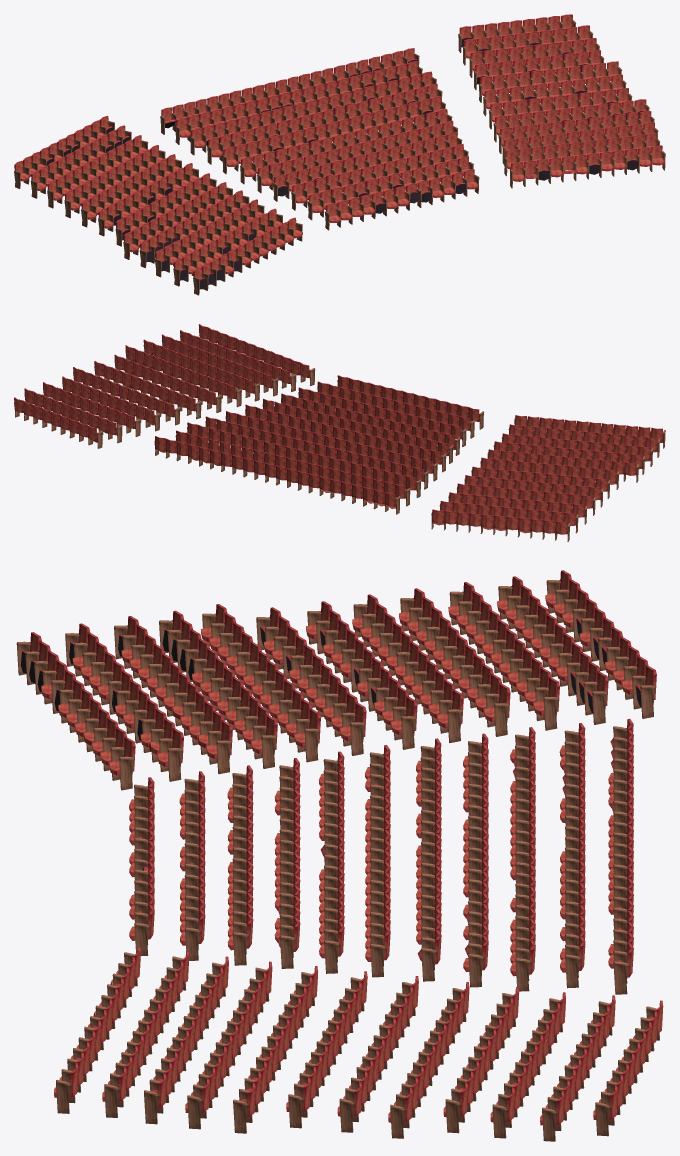
Rendered from TheatreSeats_OLD.glb.
The picture shows the model from 3 angles, top to bottom: view 1: azimuth 30°, elevation 25°; view 2: azimuth 150°, elevation 25°; view 3: azimuth 270°, elevation 25°; orthographic projection. The views are drawn at different scales.
Visible parts, largest first — view 1: group1_RowSeat_chair_grp1_chairFrame_geo_seat01_geo1; view 2: group1_RowSeat_chair_grp1_chairFrame_geo_seat01_geo1; view 3: group1_RowSeat_chair_grp1_chairFrame_geo_seat01_geo1.
Part boxes in pixels (x1,y1,x2,y2): group1_RowSeat_chair_grp1_chairFrame_geo_seat01_geo1: [14, 14, 665, 295]; group1_RowSeat_chair_grp1_chairFrame_geo_seat01_geo1: [14, 324, 665, 541]; group1_RowSeat_chair_grp1_chairFrame_geo_seat01_geo1: [16, 570, 663, 1141].
Size of the model in its own units: 2793 by 177 by 1433.
Materials: 1 (1 with a texture image).
